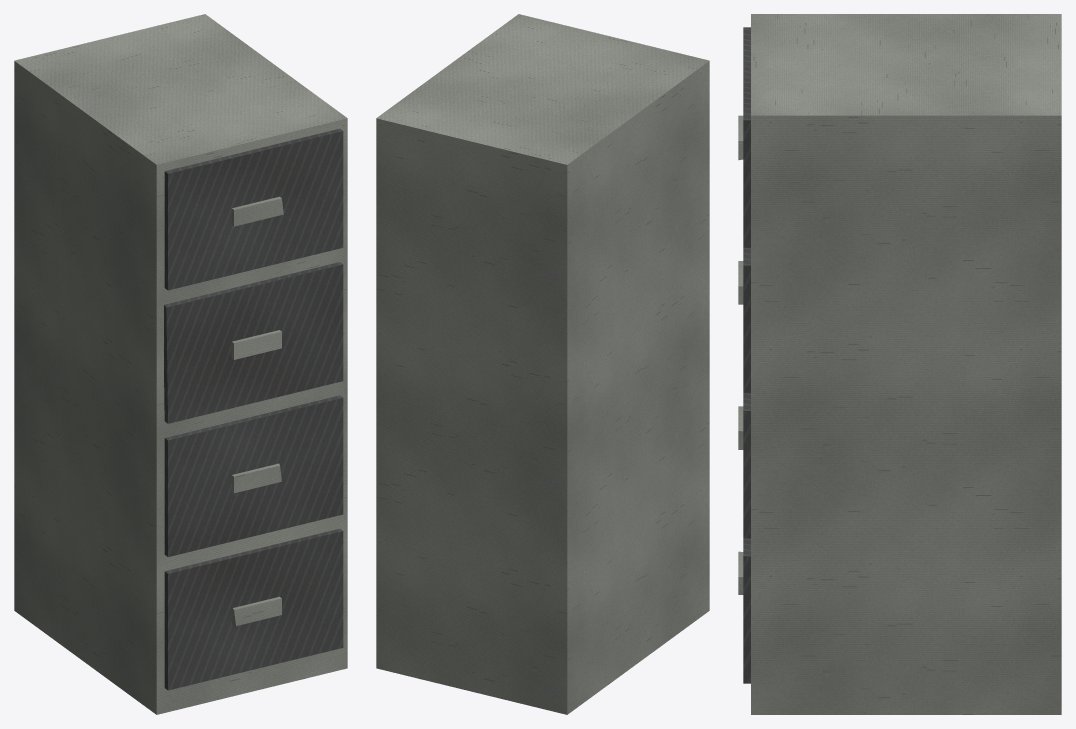
Rendered from cabinet_v3.glb.
3 views of the same model, side by side, from view 1: azimuth 30°, elevation 25°; view 2: azimuth 150°, elevation 25°; view 3: azimuth 270°, elevation 25° (orthographic). The views are drawn at different scales.
Visible parts, largest first — view 1: Variant_cabinet_3; view 2: Variant_cabinet_3; view 3: Variant_cabinet_3.
Part boxes in pixels (box(x1,y1,x2,y2)): Variant_cabinet_3: box(14, 14, 347, 714); Variant_cabinet_3: box(376, 14, 709, 714); Variant_cabinet_3: box(738, 14, 1061, 714).
Size of the model in its own units: 0.48 by 1.32 by 0.645.
2 materials, 2 textured.
